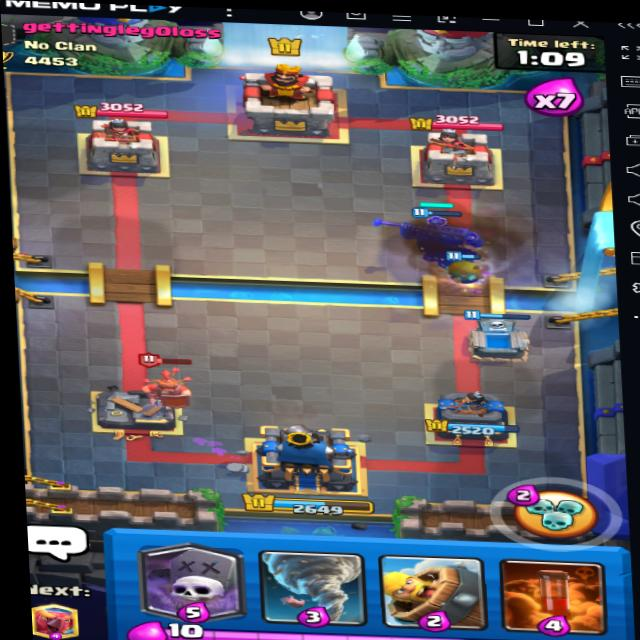royal-recruits: (131, 353, 195, 414)
